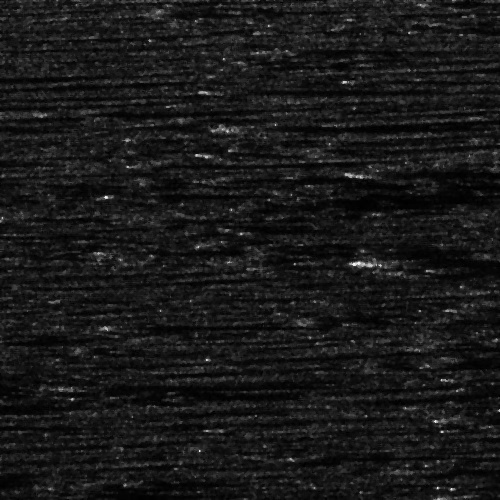object: (436, 490, 499, 500)
shadow: (0, 422, 93, 427)
